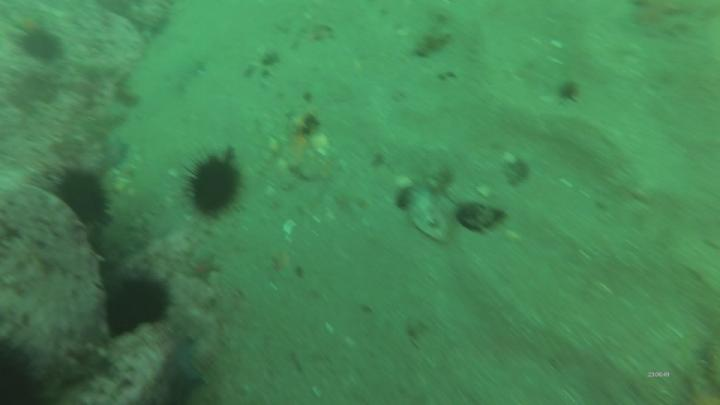echinus: (106, 270, 173, 336), (187, 154, 241, 218), (58, 167, 112, 230), (18, 29, 65, 60)
